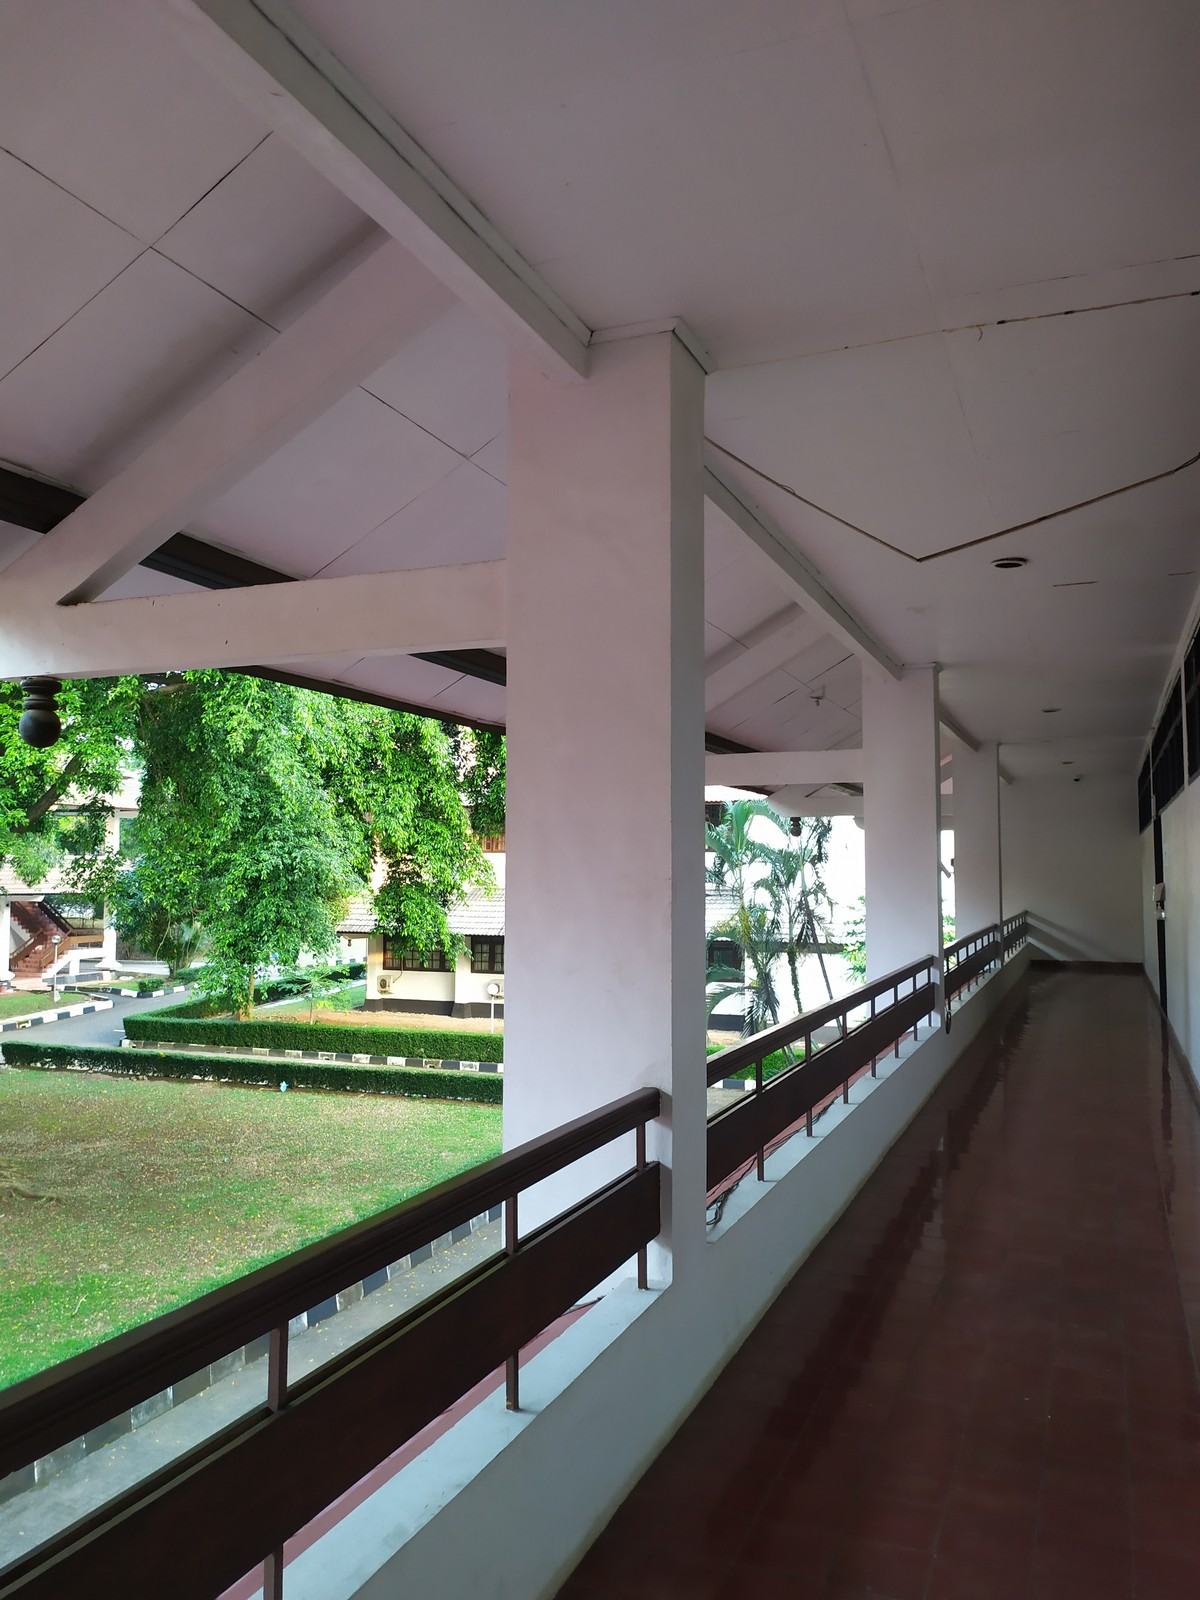concrete beam: (37, 564, 527, 682), (696, 743, 879, 789)
concrete column: (492, 325, 725, 1294), (855, 656, 958, 1032)
